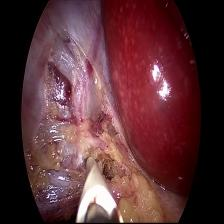Hook: (74, 152, 124, 224)
